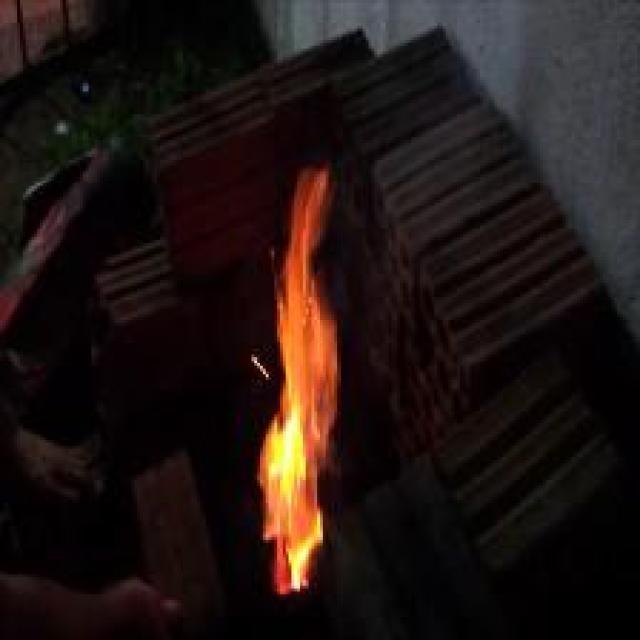smoke: (242, 161, 352, 596)
